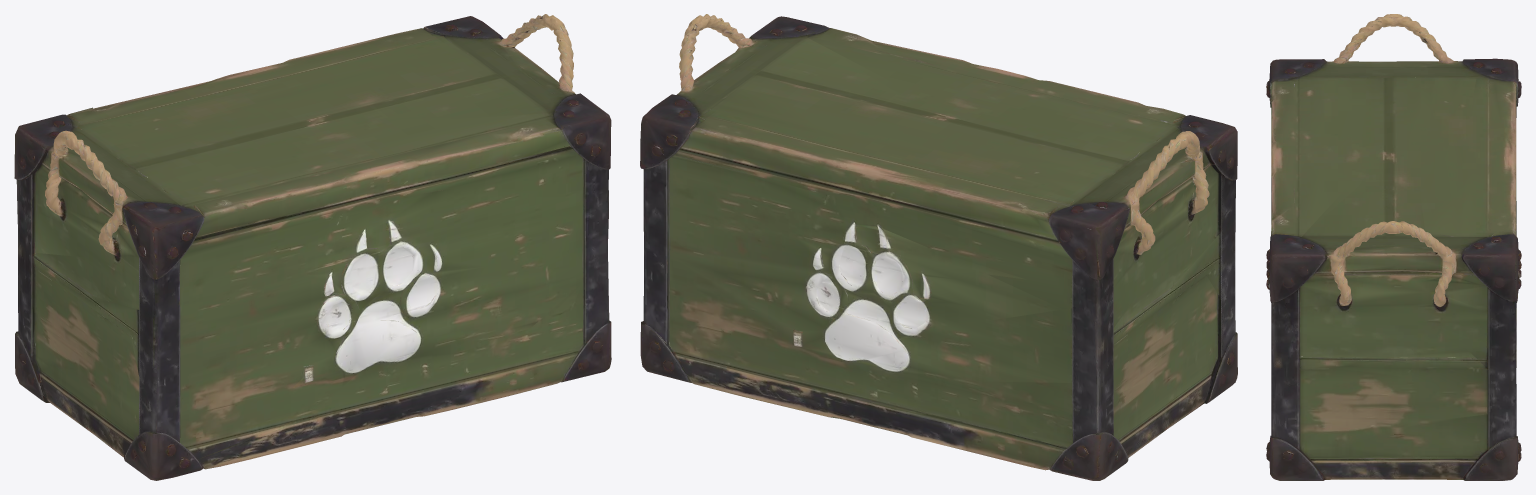
The model's file is crate.glb.
3 views of the same model, side by side, from view 1: azimuth 30°, elevation 25°; view 2: azimuth 150°, elevation 25°; view 3: azimuth 270°, elevation 25° (orthographic). The views are drawn at different scales.
Parts seen in each view (by area): view 1: Mesh_0; view 2: Mesh_0; view 3: Mesh_0.
Boxes of the visible parts, box(x1,y1,x2,y2) form: Mesh_0: box(14, 14, 611, 480); Mesh_0: box(640, 14, 1237, 480); Mesh_0: box(1266, 14, 1521, 480).
Size of the model in its own units: 1.9 by 1.11 by 0.9643.
Materials: 1 (1 with a texture image).
